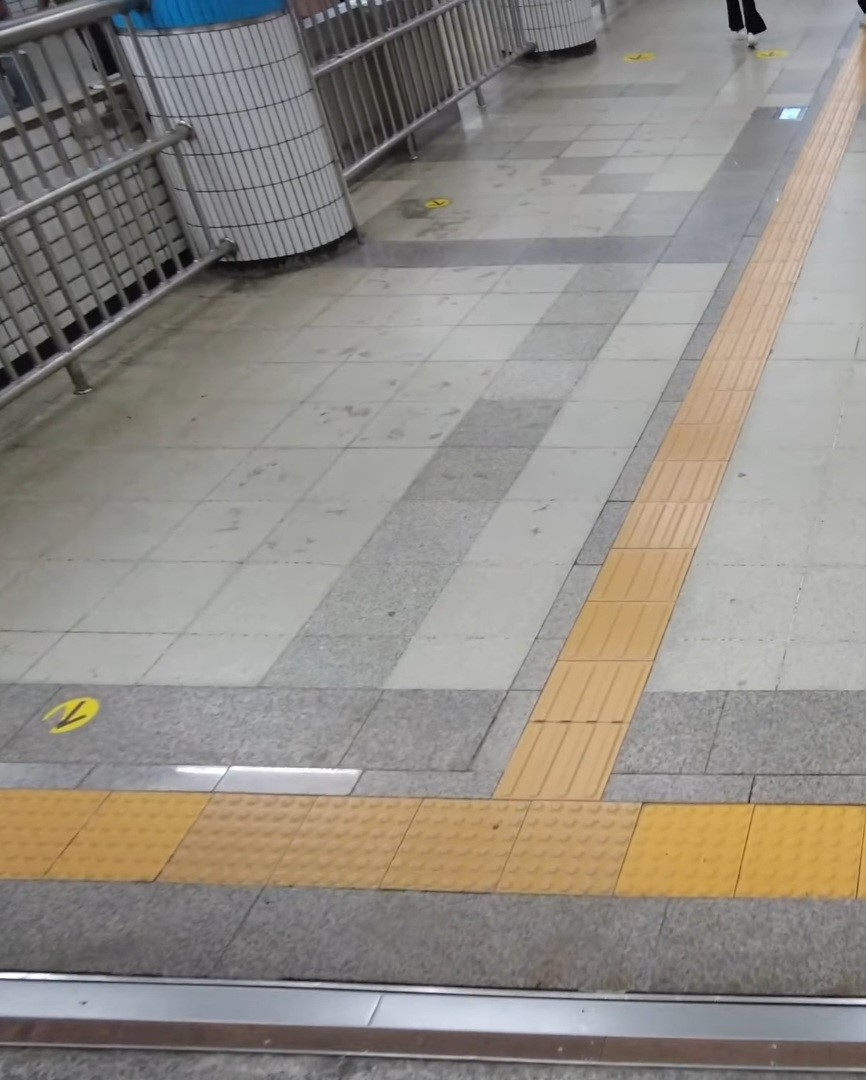guideBlock: (513, 721, 618, 787), (585, 598, 671, 659), (554, 664, 633, 713), (631, 503, 703, 548), (610, 556, 667, 601), (654, 461, 717, 496), (669, 423, 724, 459)
warningBlock: (648, 803, 772, 900), (541, 801, 657, 902), (420, 795, 538, 893), (198, 793, 312, 889), (315, 798, 419, 890), (108, 795, 203, 890), (3, 790, 105, 874), (773, 812, 866, 897)
